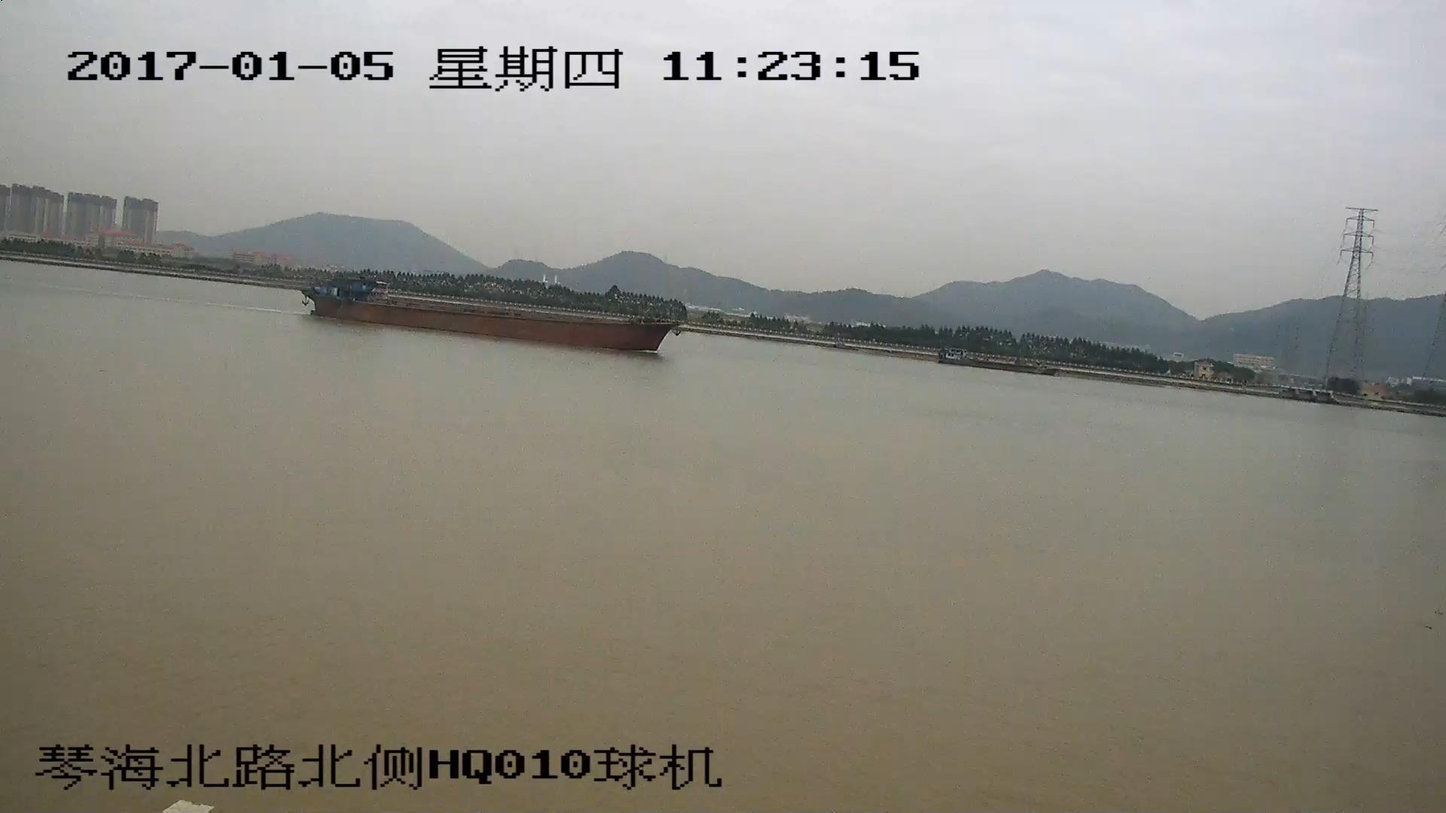bulk cargo carrier: (309, 279, 676, 352)
